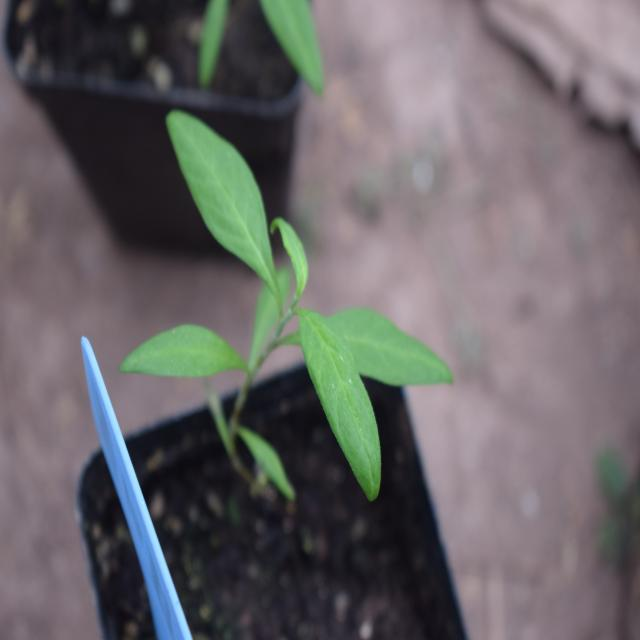white_smart_weed: (132, 92, 433, 513)
